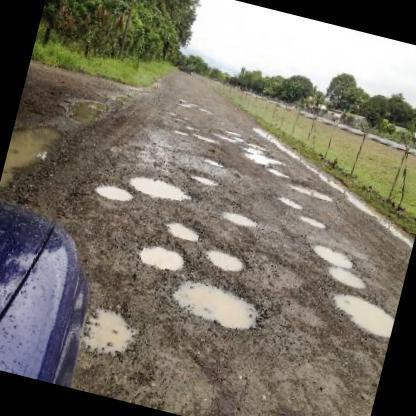pothole: (175, 273, 265, 335), (330, 291, 399, 343), (82, 304, 136, 354), (131, 172, 196, 207), (141, 240, 188, 274), (310, 240, 356, 270), (205, 245, 247, 275), (326, 263, 370, 290), (293, 178, 337, 204), (240, 145, 287, 169), (163, 217, 204, 244), (94, 181, 136, 204), (224, 206, 261, 232), (190, 170, 219, 192), (300, 212, 328, 234), (280, 194, 302, 210), (268, 166, 292, 180)
